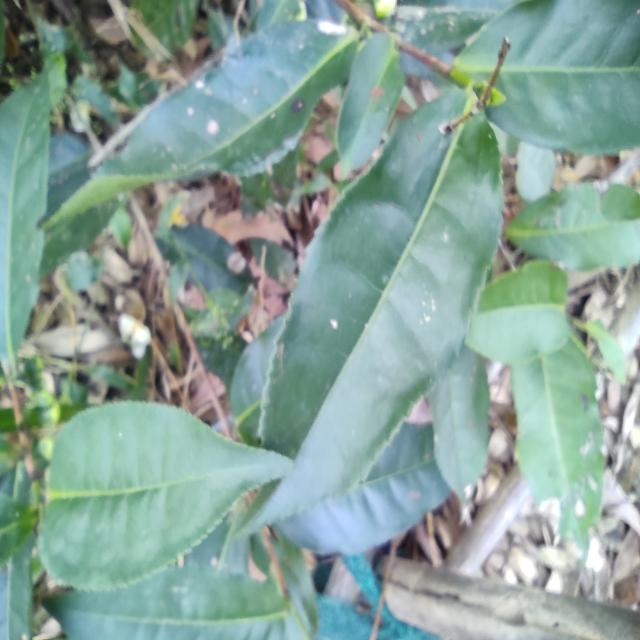Category D(7+ days, Not for Tea): (38, 374, 319, 597)
